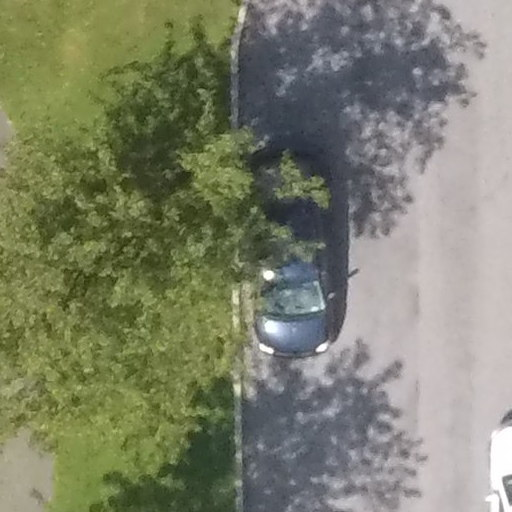car: (248, 147, 327, 368)
street: (239, 8, 512, 504)
